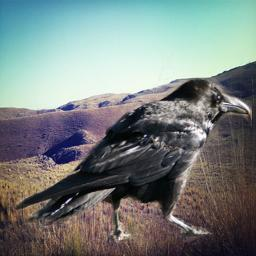Crow: (12, 76, 252, 250)
